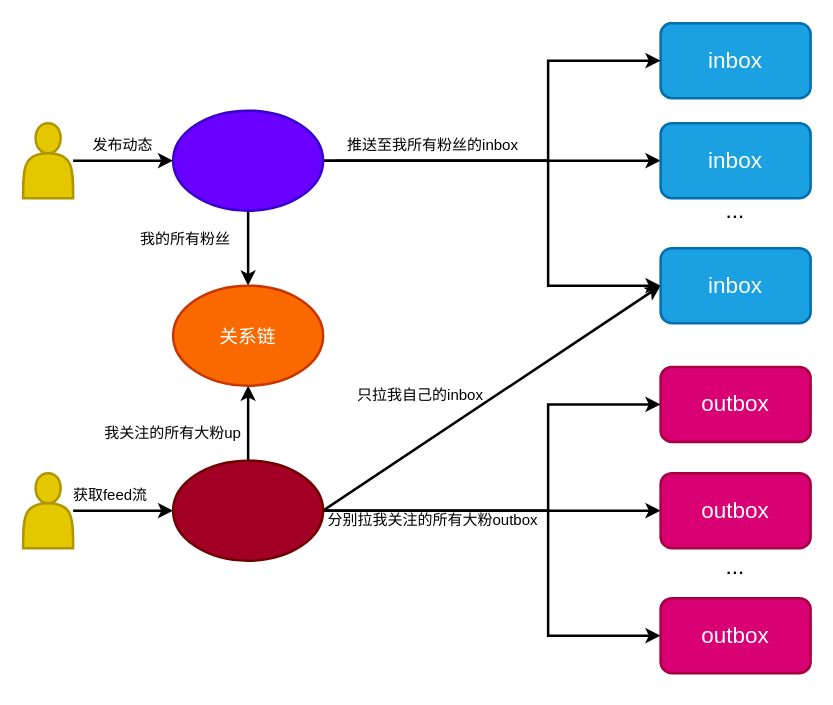
This 833x705 diagram has some shape labels left out. The centre of each missing label's shape, as x and y in pixels:
"发布服务" goes at [247,160].
"聚合服务" goes at [247,510].
